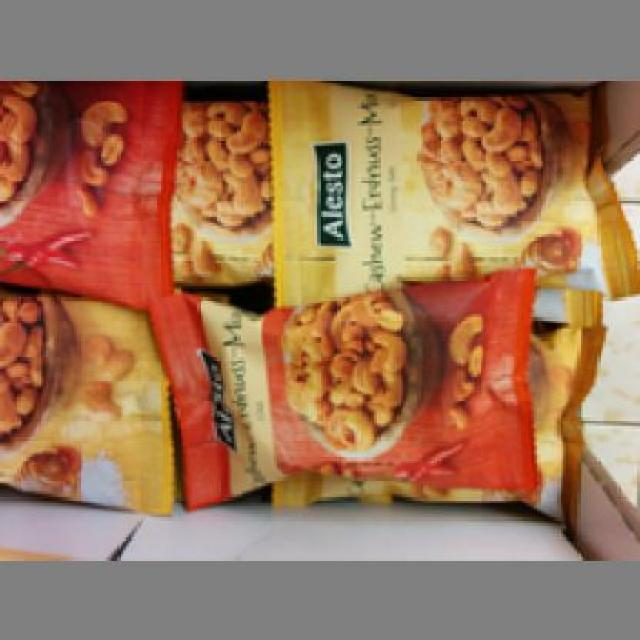Nuts: (140, 262, 537, 508), (262, 77, 638, 303), (0, 77, 183, 317), (0, 282, 177, 515)
